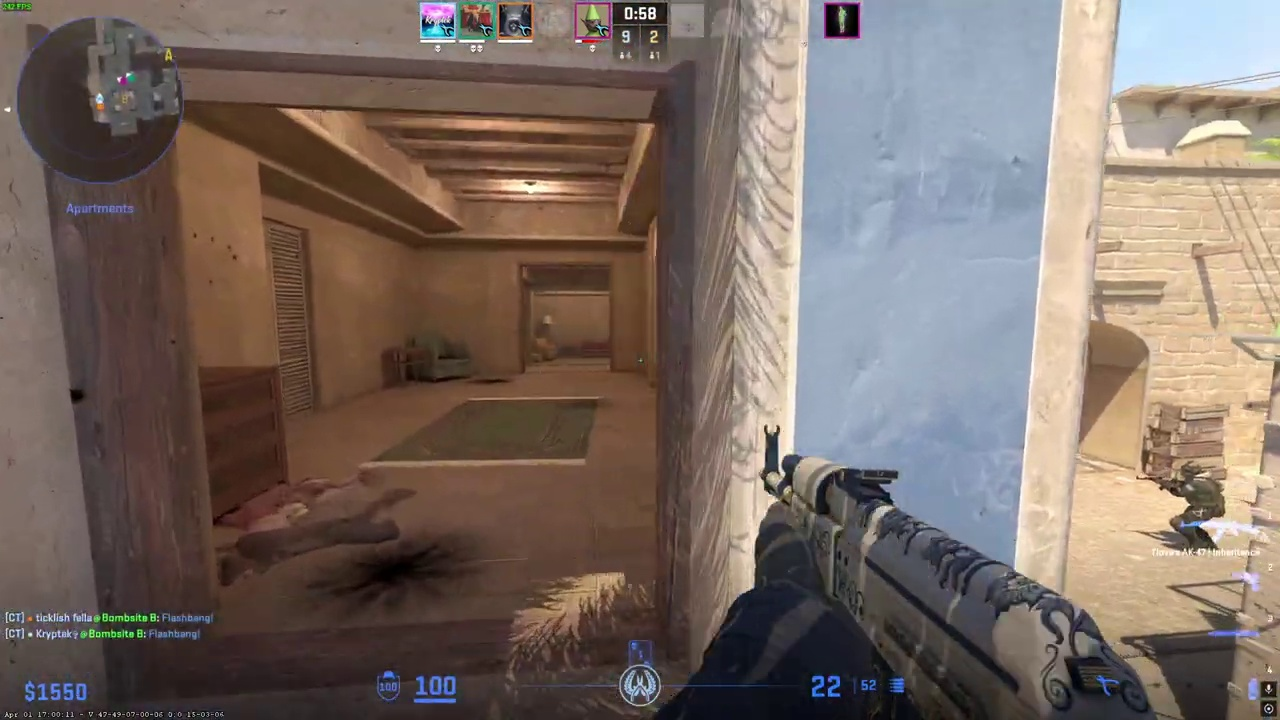CT: (1166, 460, 1223, 555)
